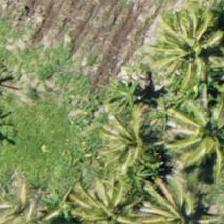coconut_tree: (127, 5, 217, 95), (107, 96, 197, 186), (156, 98, 223, 188), (49, 163, 139, 223), (133, 174, 223, 223)
